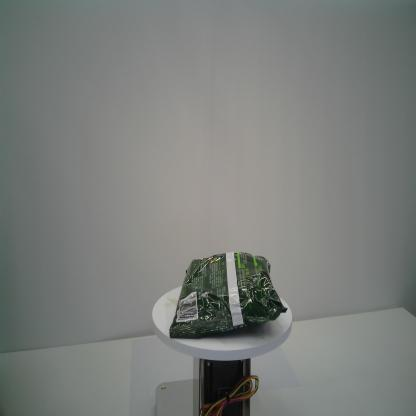Instant Noodles: (170, 251, 288, 339)
